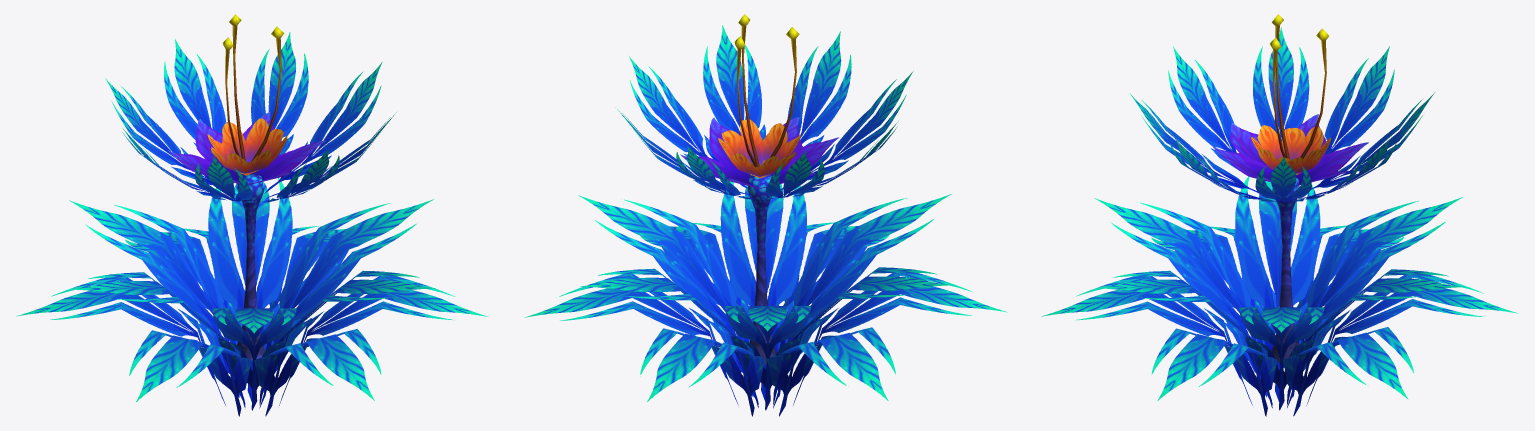
The model's file is Bush_03c.FBX.
3 views of the same model, side by side, from view 1: azimuth 30°, elevation 25°; view 2: azimuth 150°, elevation 25°; view 3: azimuth 270°, elevation 25° (orthographic). The views are drawn at different scales.
Visible parts, largest first — view 1: Bush_03c; view 2: Bush_03c; view 3: Bush_03c.
Boxes of the visible parts, x1=… form: Bush_03c: x1=16, y1=14, x2=488, y2=416; Bush_03c: x1=525, y1=14, x2=1007, y2=416; Bush_03c: x1=1041, y1=14, x2=1518, y2=416.
Bounding box in the file's own units: 183 × 164 × 188.
